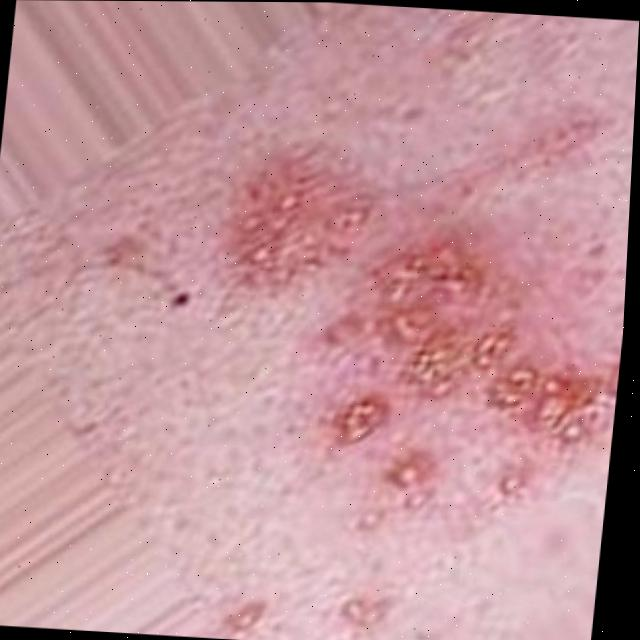Shingles: (217, 159, 632, 516), (216, 590, 272, 636), (342, 593, 388, 623)
